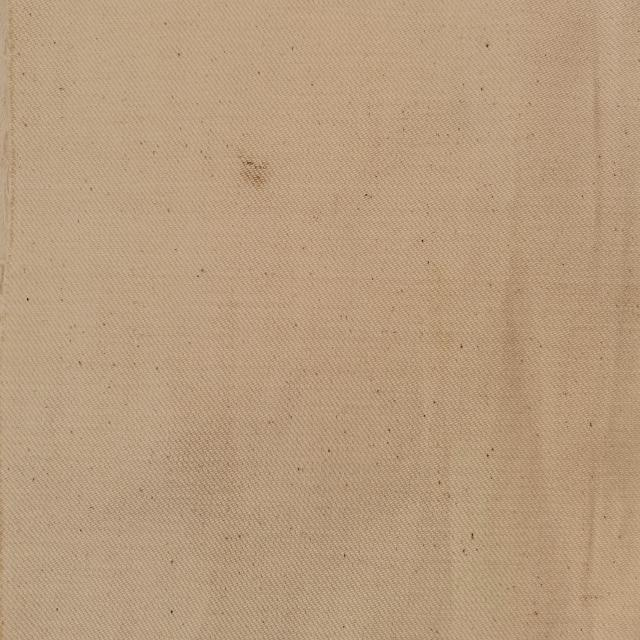taaaches: (232, 137, 274, 203)
